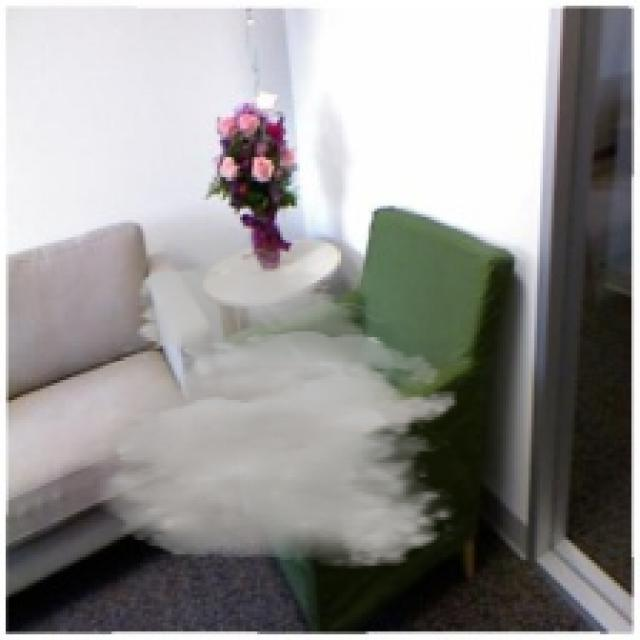Smoke: (48, 226, 460, 568)
